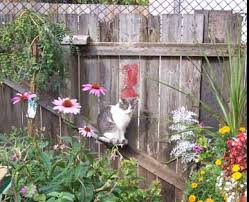cat: (95, 97, 140, 145)
